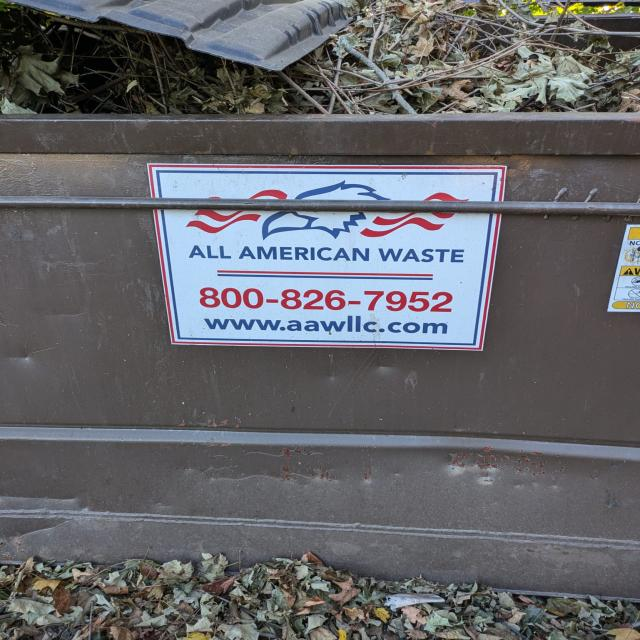Crevice Corrosion: (440, 446, 552, 478)
